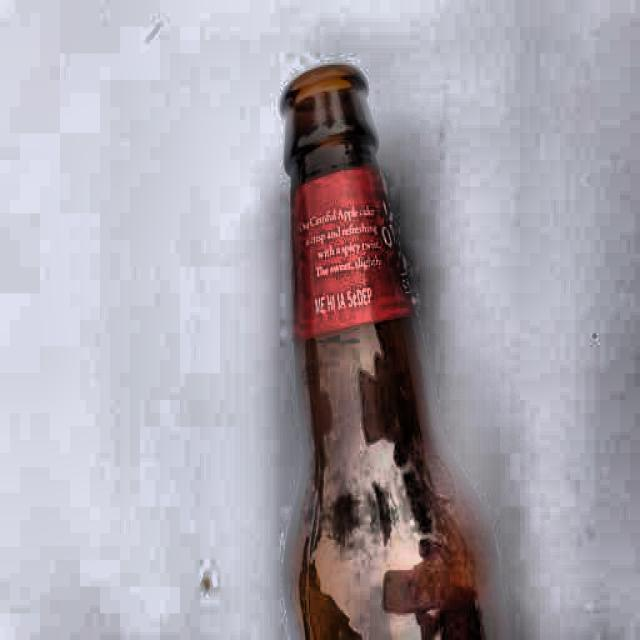glass: (280, 63, 518, 640)
